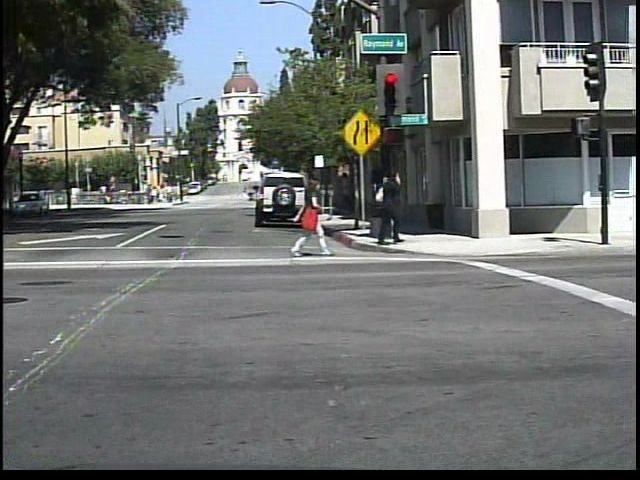person: (367, 163, 411, 249), (291, 172, 332, 257), (248, 189, 259, 204)
